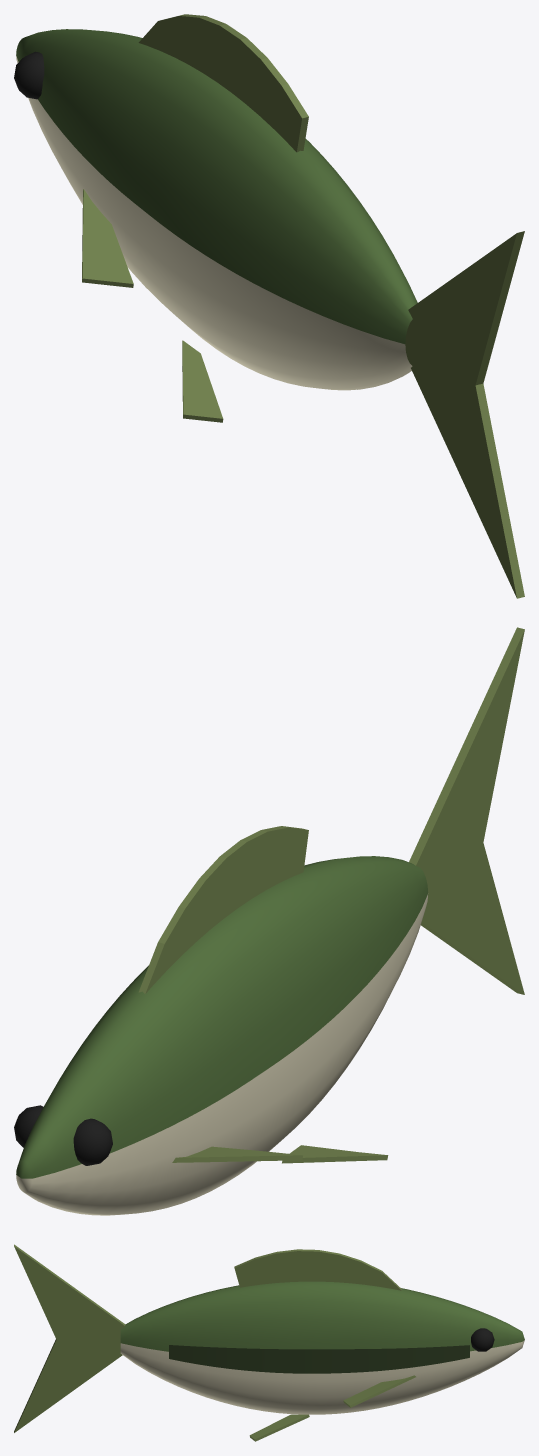
Rendered from bass.fbx.
3 renders of one model, top to bottom at view 1: azimuth 30°, elevation 25°; view 2: azimuth 150°, elevation 25°; view 3: azimuth 270°, elevation 25°, orthographic. The views are drawn at different scales.
Visible parts, largest first — view 1: Back, Fin, Belly, Eye; view 2: Back, Fin, Belly, Eye; view 3: Back, Fin, Belly, Stripe, Eye.
Part boxes in pixels (x1=…): Back: x1=16, y1=29, x2=417, y2=344; Fin: x1=82, y1=14, x2=524, y2=598; Belly: x1=16, y1=56, x2=412, y2=390; Eye: x1=14, y1=51, x2=44, y2=99; Back: x1=16, y1=856, x2=427, y2=1178; Fin: x1=138, y1=627, x2=524, y2=1163; Belly: x1=16, y1=893, x2=428, y2=1215; Eye: x1=14, y1=1105, x2=112, y2=1165; Back: x1=120, y1=1281, x2=524, y2=1351; Fin: x1=14, y1=1244, x2=415, y2=1441; Belly: x1=120, y1=1340, x2=524, y2=1414; Stripe: x1=169, y1=1345, x2=469, y2=1373; Eye: x1=471, y1=1328, x2=494, y2=1351.
Size of the model in its own units: 97.42 by 154 by 382.
